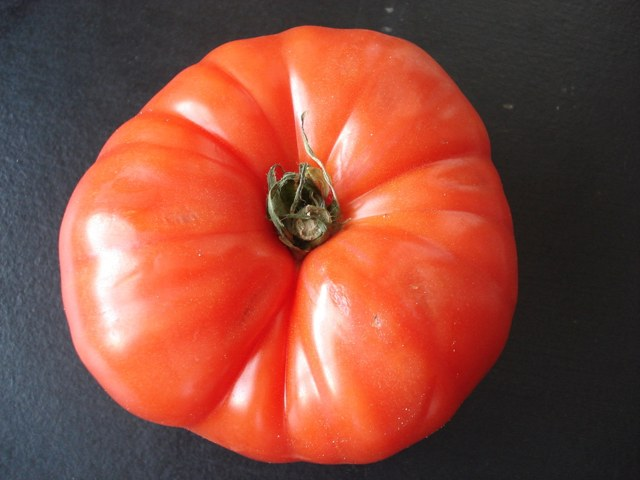tomato: (84, 38, 539, 475)
